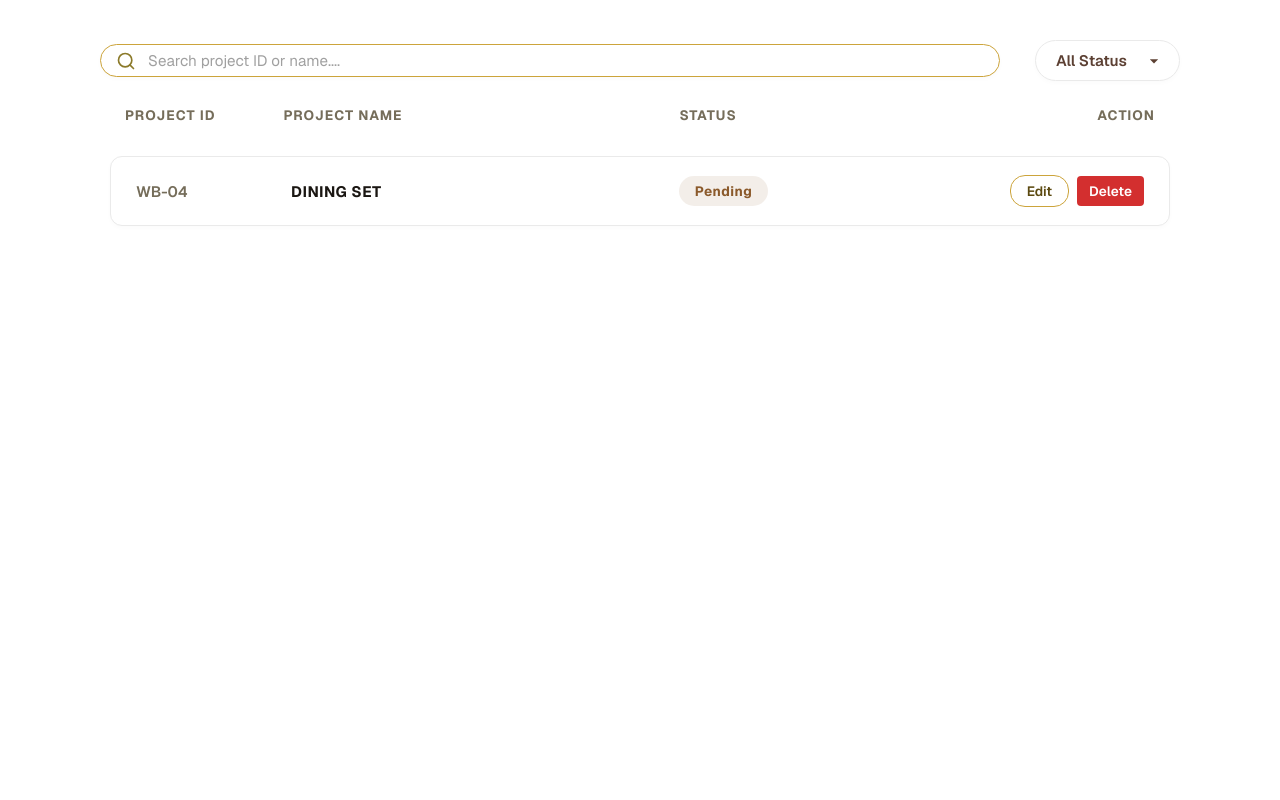
Test: ProjectList › opens a confirm dialog naming the project, deletes, toasts, and refetches on confirm
Expected: the text "Dining Set" is shown, [291,182,382,200]
Click the button "Delete".
click(1110, 191)  # box [1077,176,1144,206]
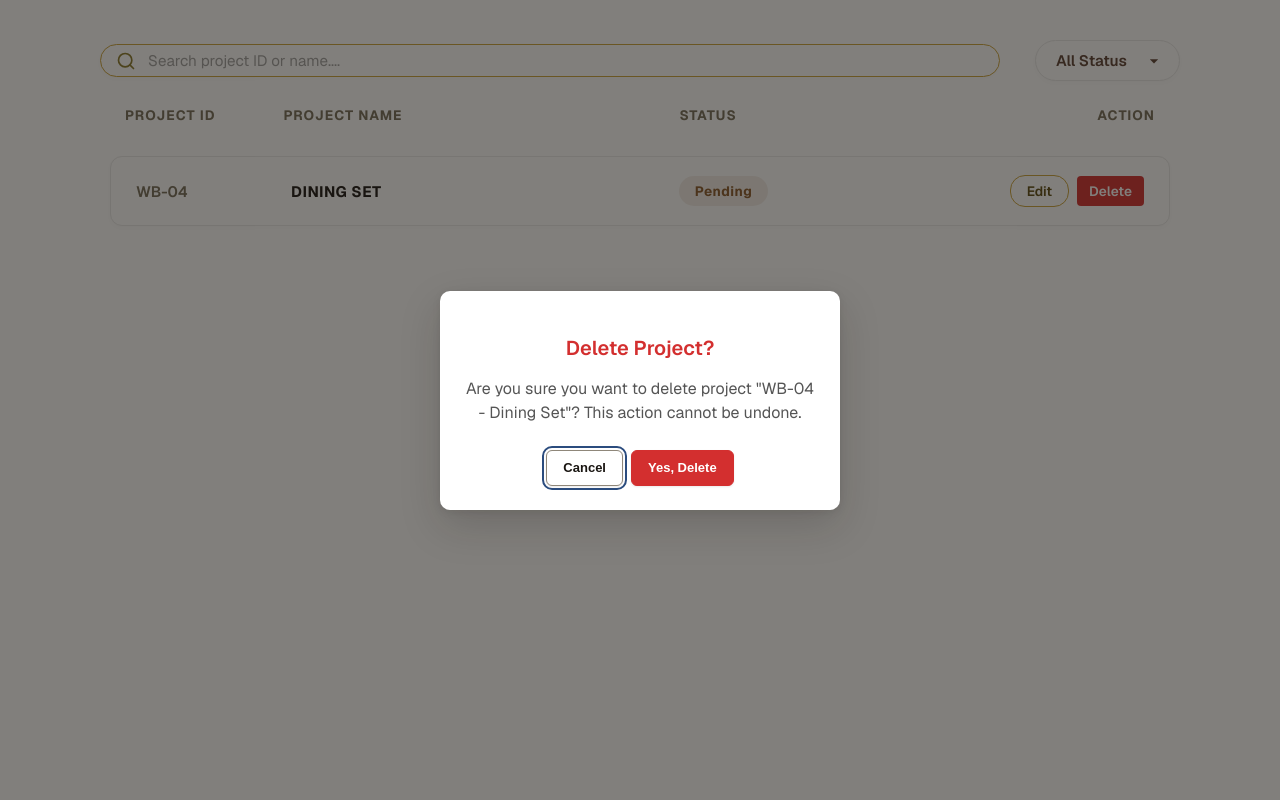
Expected: the dialog shows "WB-04", [466,378,814,422]
Click the button "Yes, Delete".
click(682, 468)  # box [631,450,734,486]
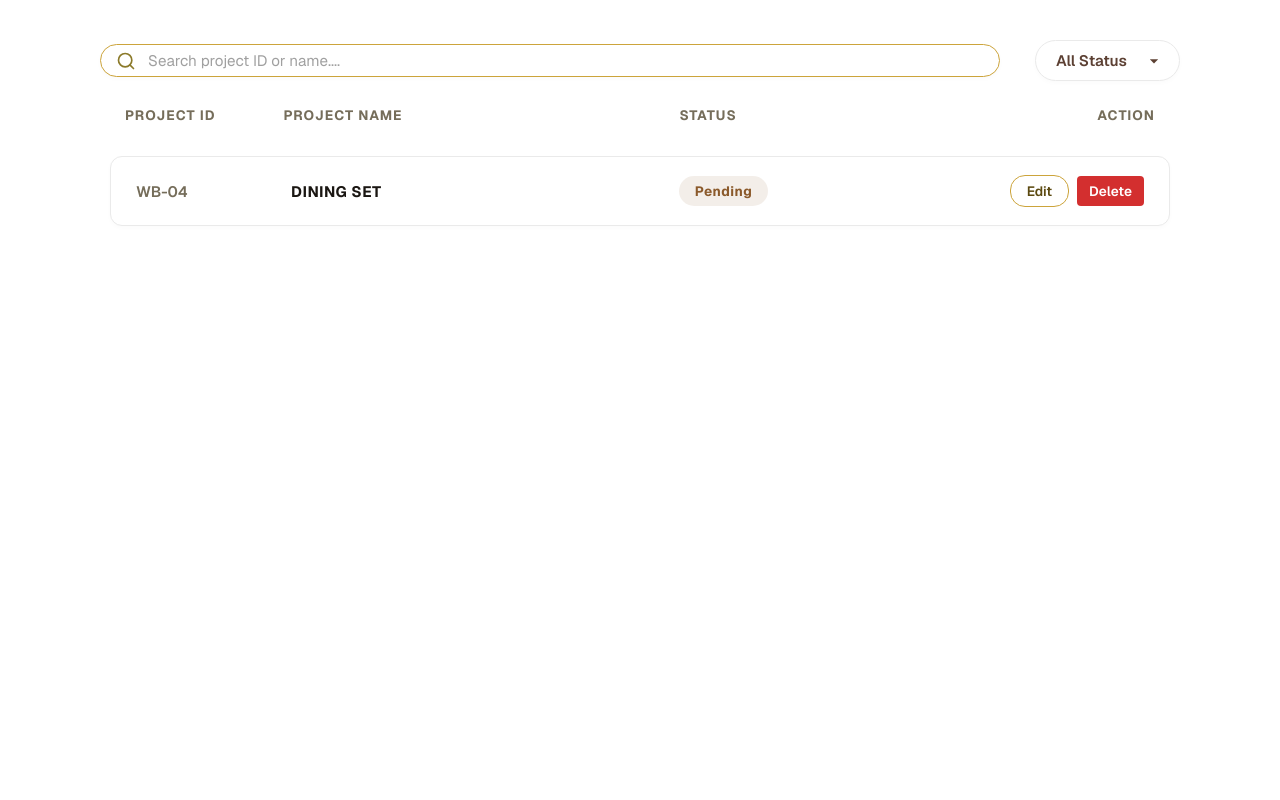
Expected: the dialog is gone
